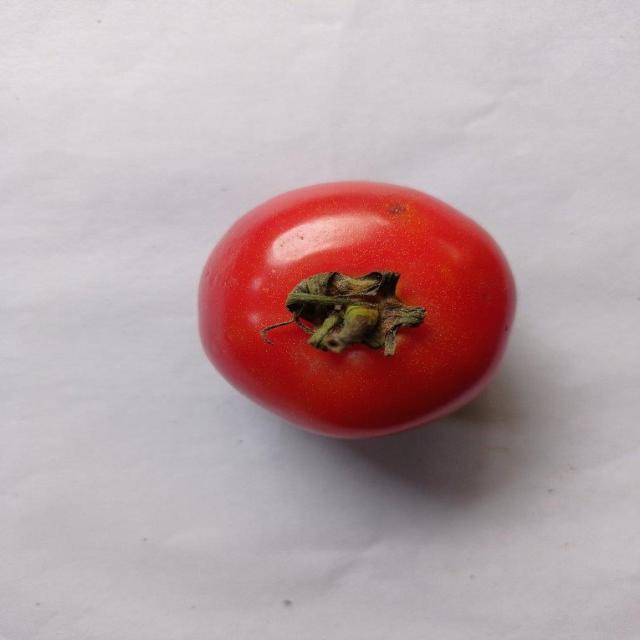Tomato: (192, 177, 524, 446)
